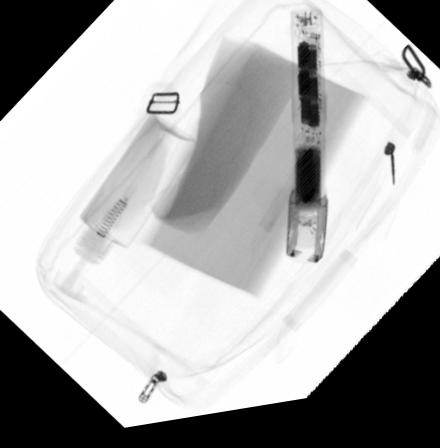Baton: (284, 15, 330, 274)
